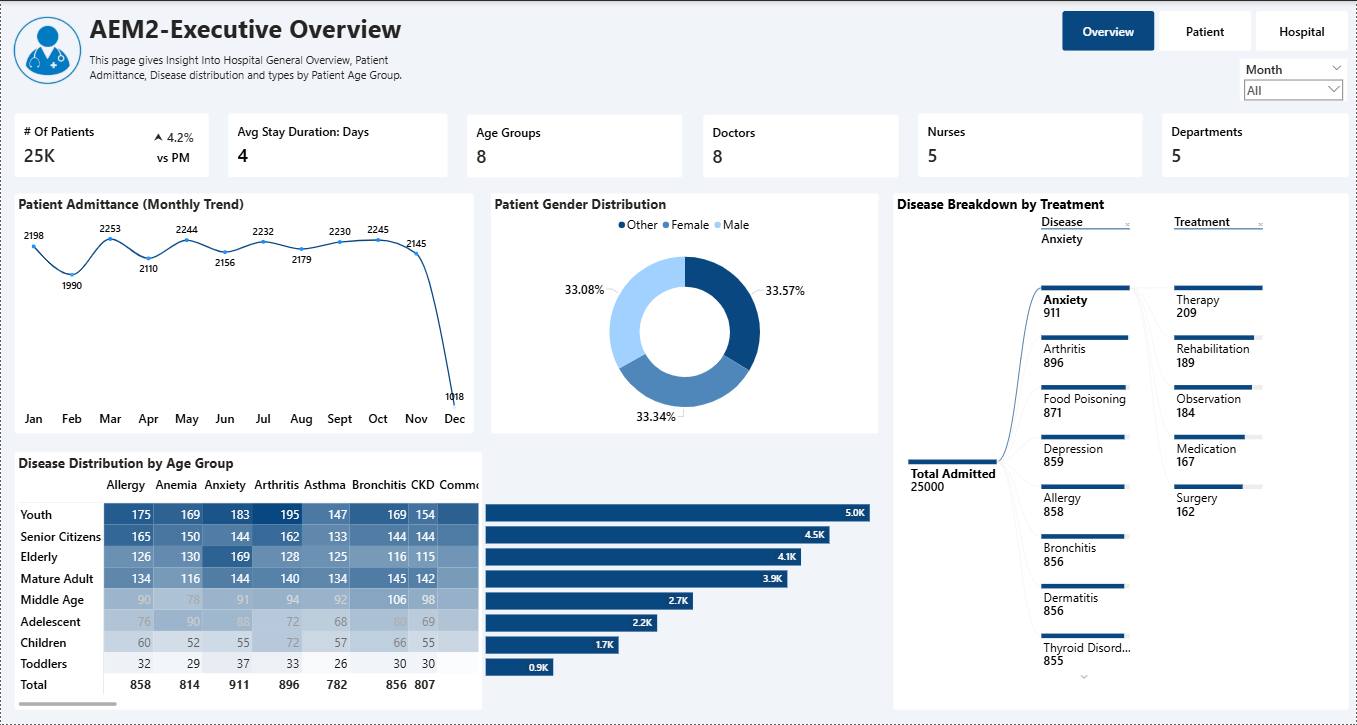

The page's visual inventory and layout, read from the dashboard file:
{"tool":"powerbi","page":{"name":"Overview","canvas":[3000,1600],"ordinal":0},"visuals":[{"type":"barChart","title":"Hospital Population by Age Group","fields":{"Category":["Healthcare_with_realistic_dates.Age (groups)"],"Y":["CountNonNull(Healthcare_with_realistic_dates.Patient_ID)"]},"box":[1067,1100.2,917.8,398.1],"z":0},{"type":"donutChart","title":"Patient Gender Distribution","fields":{"Category":["Healthcare_with_realistic_dates.Gender"],"Y":["CountNonNull(Healthcare_with_realistic_dates.Patient_ID)"]},"box":[2247.4,732.6,569.5,530.8],"z":1000},{"type":"pivotTable","title":"Disease Distribution by Age Group","fields":{"Rows":["Healthcare_with_realistic_dates.Age (groups)"],"Columns":["Healthcare_with_realistic_dates.Disease"],"Values":["CountNonNull(Healthcare_with_realistic_dates.Patient_ID)"]},"box":[30.4,997.9,1033.9,569.5],"z":2000},{"type":"lineChart","title":"Patient Admittance (Monthly Trend)","fields":{"Category":["Date Table.Month Name"],"Y":["CountNonNull(Healthcare_with_realistic_dates.Patient_ID)"]},"box":[30.4,425.7,1014.5,530.8],"z":3000},{"type":"image","box":[13.8,19.4,176.9,179.7],"z":4000},{"type":"textbox","box":[190.7,16.6,721.5,182.4],"z":5000},{"type":"slicer","fields":{"Values":["Date Table.Month Name"]},"box":[2739.5,127.2,237.7,94],"z":6000},{"type":"cardVisual","fields":{"Data":["Count(Patient_Treatment.Patient_ID)"]},"box":[30.4,248.8,428.5,141],"z":7000},{"type":"cardVisual","fields":{"Data":["Count(Patient_Doctors_Dataset.Doctor_Attending)"]},"box":[1552.5,251.6,431.2,138.2],"z":8000},{"type":"cardVisual","fields":{"Data":["Count(Extended_Patient_Attributes.Nurse)"]},"box":[2028.5,248.8,494.8,141],"z":9000},{"type":"cardVisual","fields":{"Data":["Count(Patient_Doctors_Dataset.Department)"]},"box":[2568.1,248.8,411.9,141],"z":10000},{"type":"cardVisual","fields":{"Data":["Avg(Patient_Treatment.Length of Stay)"]},"box":[503.7,248.8,483.8,141],"z":11000},{"type":"pageNavigator","box":[2346.9,22.1,633,88.5],"z":12000},{"type":"decompositionTreeVisual","title":"Disease Breakdown by Treatment","fields":{"Analyze":["CountNonNull(Patient_Treatment.Patient_ID)"],"ExplainBy":["Patient_Treatment.Disease","Patient_Treatment.Treatment_Type"]},"box":[1973.7,425.7,1006.2,1141.7],"z":13000},{"type":"cardVisual","fields":{"Data":["Count(Healthcare_with_realistic_dates.Age (groups))"]},"box":[1032.2,251.6,475.5,138.2],"z":14000},{"type":"card","fields":{"Values":["Patient_Treatment.MoM % difference"]},"box":[315.1,265.4,132.7,110.6],"z":15000},{"type":"donutChart","title":"Patient Gender Distribution","fields":{"Category":["Healthcare_with_realistic_dates.Gender"],"Y":["CountNonNull(Healthcare_with_realistic_dates.Patient_ID)"]},"box":[1083.6,425.7,857,530.8],"z":16000}]}

Visuals, with their boxes in screenshot pixels (x1, y1, x2, y2), scaled from the page's 3000x1600 canvas onto the 1357x725 screenshot:
"Hospital Population by Age Group" barChart: [483, 499, 898, 679]
"Patient Gender Distribution" donutChart: [1017, 332, 1274, 572]
"Disease Distribution by Age Group" pivotTable: [14, 452, 481, 710]
"Patient Admittance (Monthly Trend)" lineChart: [14, 193, 473, 433]
image: [6, 9, 86, 90]
textbox: [86, 8, 413, 90]
slicer - Date Table.Month Name: [1239, 58, 1347, 100]
cardVisual - Count(Patient_Treatment.Patient_ID): [14, 113, 208, 177]
cardVisual - Count(Patient_Doctors_Dataset.Doctor_Attending): [702, 114, 897, 177]
cardVisual - Count(Extended_Patient_Attributes.Nurse): [918, 113, 1141, 177]
cardVisual - Count(Patient_Doctors_Dataset.Department): [1162, 113, 1348, 177]
cardVisual - Avg(Patient_Treatment.Length of Stay): [228, 113, 447, 177]
pageNavigator: [1062, 10, 1348, 50]
"Disease Breakdown by Treatment" decompositionTreeVisual: [893, 193, 1348, 710]
cardVisual - Count(Healthcare_with_realistic_dates.Age (groups)): [467, 114, 682, 177]
card - Patient_Treatment.MoM % difference: [143, 120, 203, 170]
"Patient Gender Distribution" donutChart: [490, 193, 878, 433]
